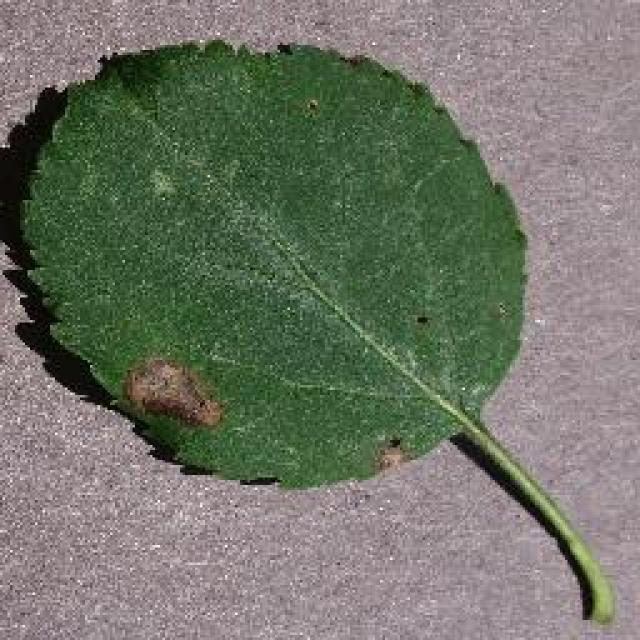Apple___Black_rot: (13, 37, 531, 494)
